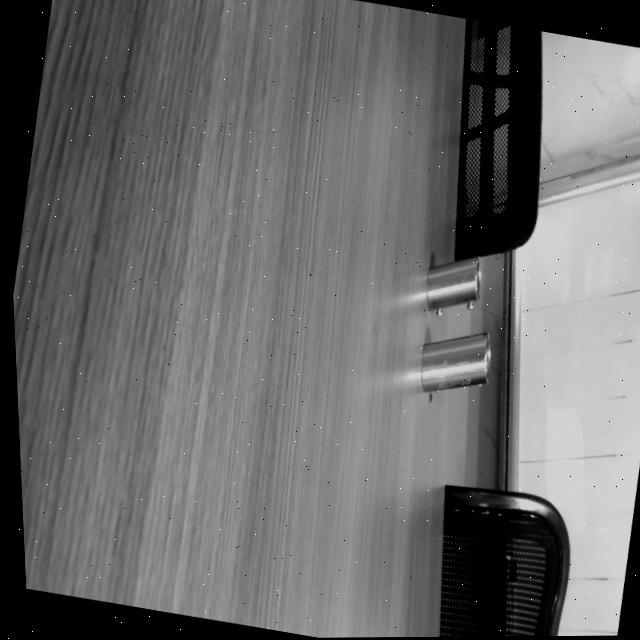Co_Lon: (415, 331, 496, 392)
Co_Nho: (421, 255, 488, 317)
